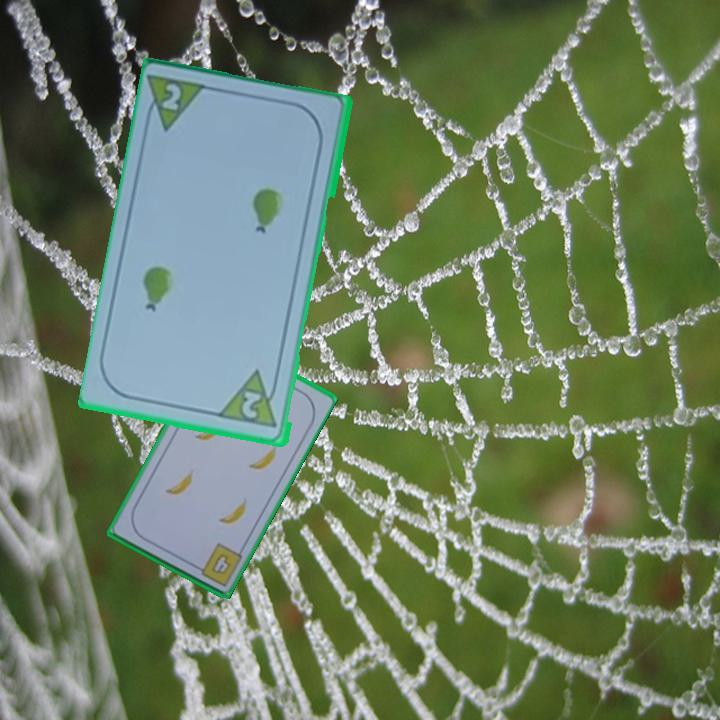2p: (238, 388, 267, 422), (157, 80, 185, 114)
4b: (190, 539, 245, 589)
